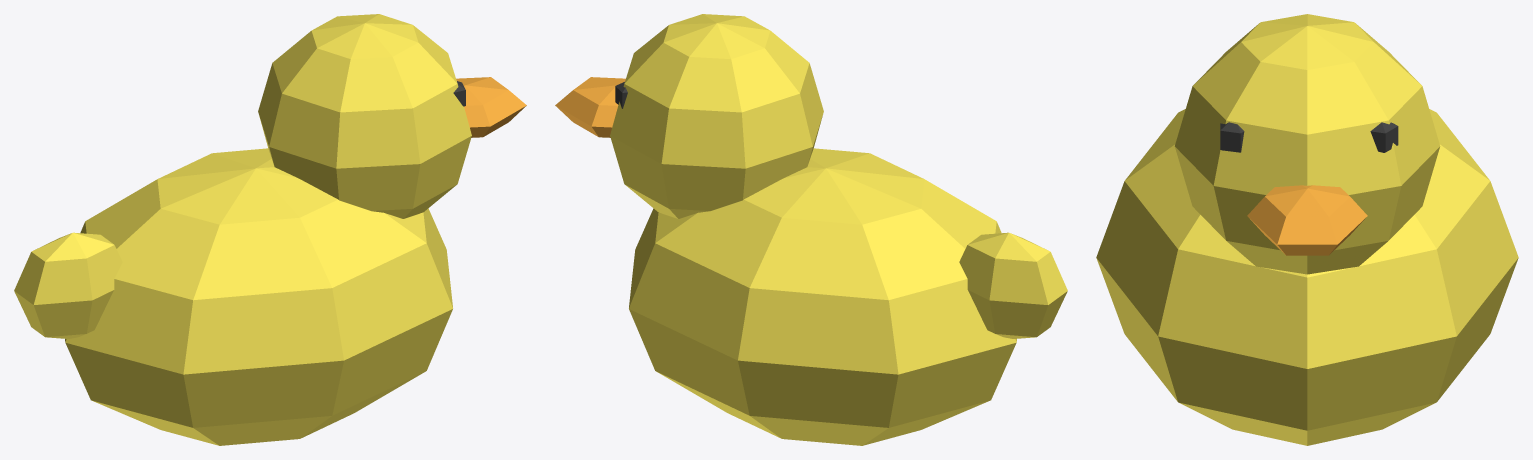
File: Basura_Rareza_PatoGoma.fbx
3 views of the same model, side by side, from view 1: azimuth 30°, elevation 25°; view 2: azimuth 150°, elevation 25°; view 3: azimuth 270°, elevation 25° (orthographic). The views are drawn at different scales.
Visible parts, largest first — view 1: Basura_Rareza_PatoGoma; view 2: Basura_Rareza_PatoGoma; view 3: Basura_Rareza_PatoGoma.
Boxes of the visible parts, x1,y1,x2,y2 form: Basura_Rareza_PatoGoma: [14, 14, 526, 445]; Basura_Rareza_PatoGoma: [555, 14, 1067, 445]; Basura_Rareza_PatoGoma: [1096, 14, 1518, 445].
Size of the model in its own units: 1.13 by 0.82 by 0.7.
Materials: 1 (1 with a texture image).
